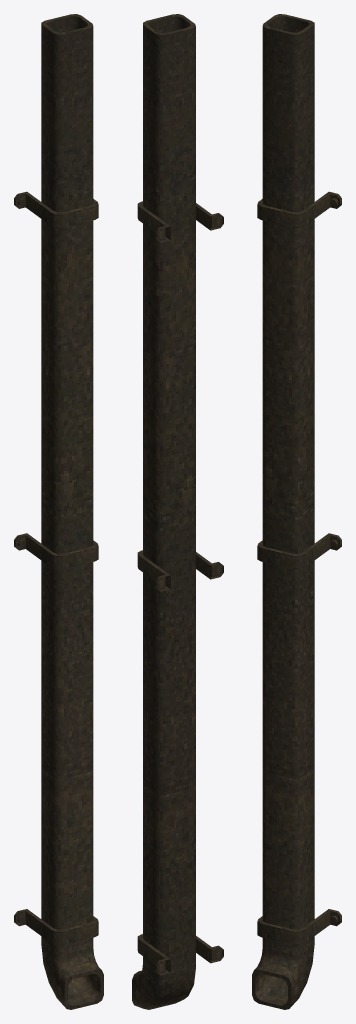
Rendered from rainwater_downpipe_hl_1_end.glb.
3 views of the same model, side by side, from view 1: azimuth 30°, elevation 25°; view 2: azimuth 210°, elevation 25°; view 3: azimuth 330°, elevation 25° (orthographic). The views are drawn at different scales.
Visible parts, largest first — view 1: rainwater_downpipe_hl_1_end; view 2: rainwater_downpipe_hl_1_end; view 3: rainwater_downpipe_hl_1_end.
Boxes of the visible parts, x1=… form: rainwater_downpipe_hl_1_end: x1=14, y1=14, x2=103, y2=1009; rainwater_downpipe_hl_1_end: x1=132, y1=14, x2=223, y2=1009; rainwater_downpipe_hl_1_end: x1=252, y1=14, x2=341, y2=1009.
Bounding box in the file's own units: 0.2 × 2.84 × 0.2.
1 material, 1 textured.
